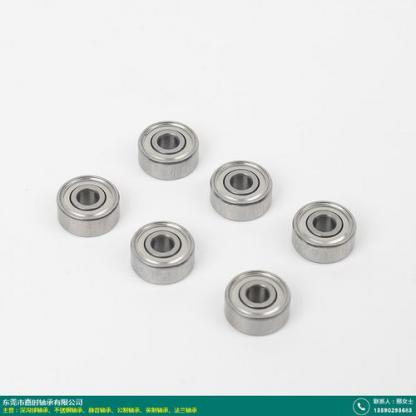FOD: (223, 266, 294, 338), (206, 157, 277, 225), (128, 220, 198, 288), (290, 198, 360, 266), (52, 172, 124, 237), (135, 119, 201, 181)
